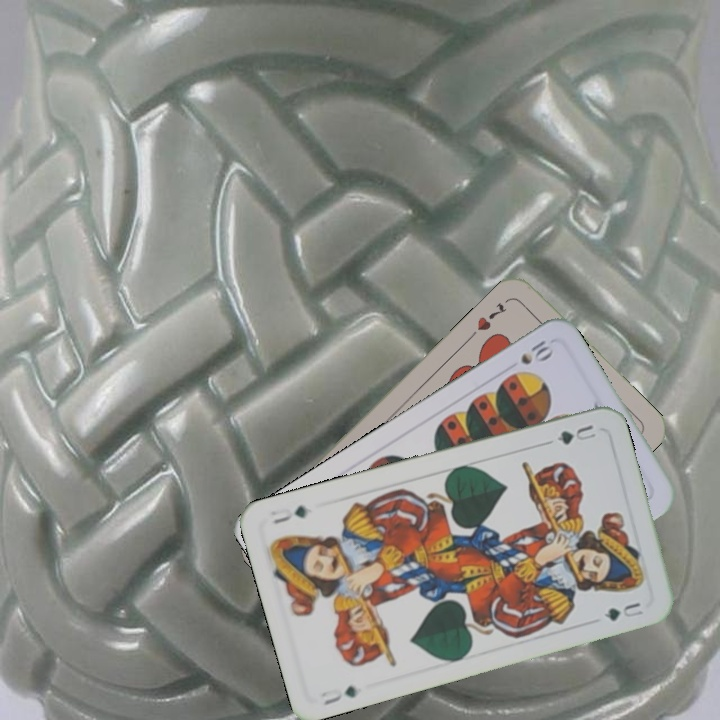GU: (553, 420, 599, 448), (317, 681, 359, 708)
H7: (466, 298, 510, 341)
S10: (516, 334, 557, 368)
